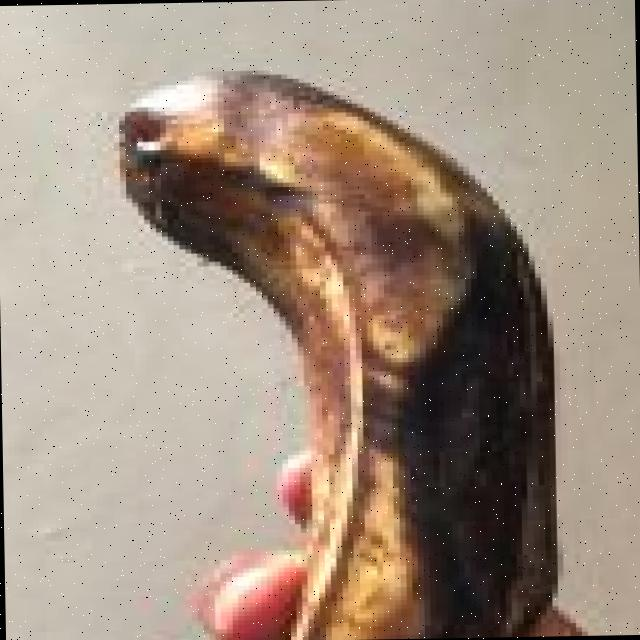Bad_Banana-0 day: (123, 73, 550, 640)
